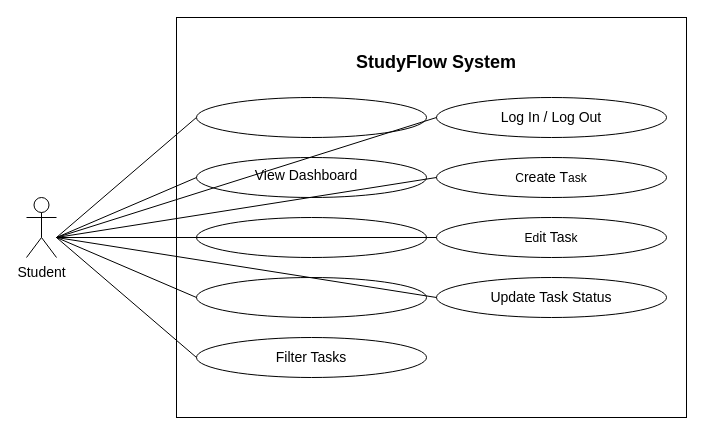
This 704x435 diagram has some shape labels left out. The centre of each missing label's shape, as x and y in pixels:
"Delete Task" goes at (x=311, y=297).
"Register" goes at (x=311, y=117).
"View Tasks" goes at (x=311, y=237).
